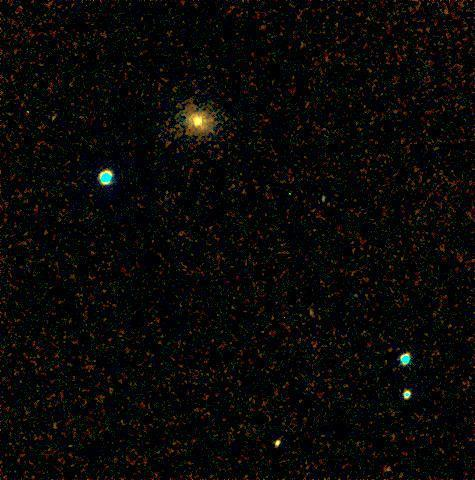star: (296, 301, 326, 331)
